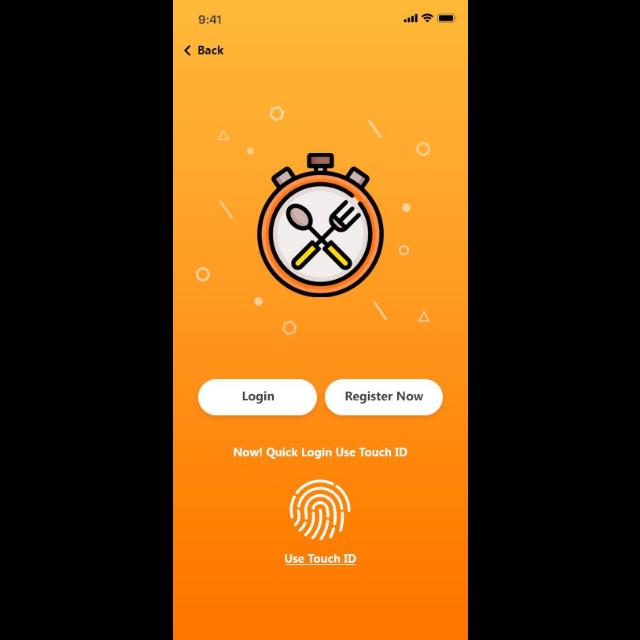icon: (183, 46, 190, 56)
image: (196, 106, 430, 336), (289, 480, 351, 540)
text: (233, 447, 407, 459), (284, 554, 356, 566), (198, 44, 224, 56)
textbutton: (198, 379, 318, 416), (324, 379, 442, 415)
uppertaskbar: (198, 13, 457, 24)
